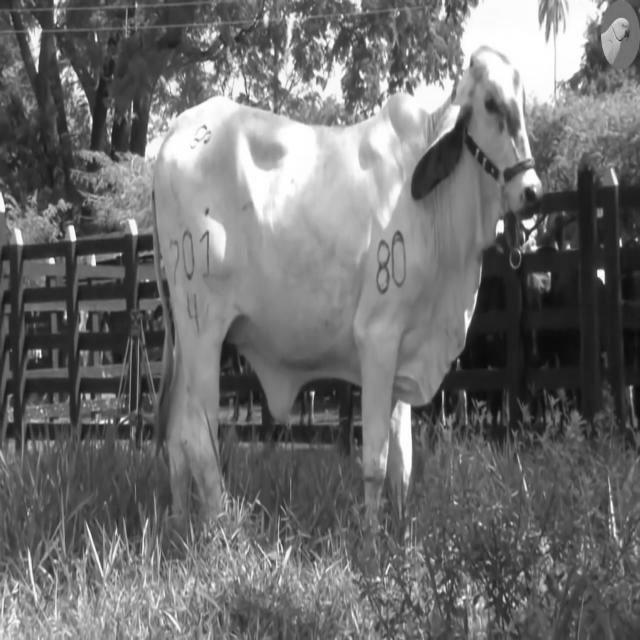cow: (156, 48, 541, 521)
